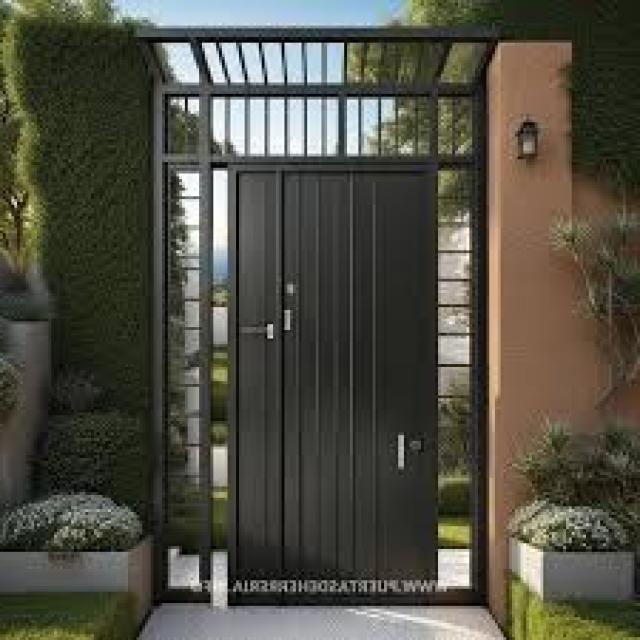door: (226, 162, 440, 603)
